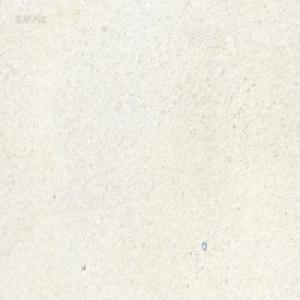Washer: (201, 240, 206, 250)
